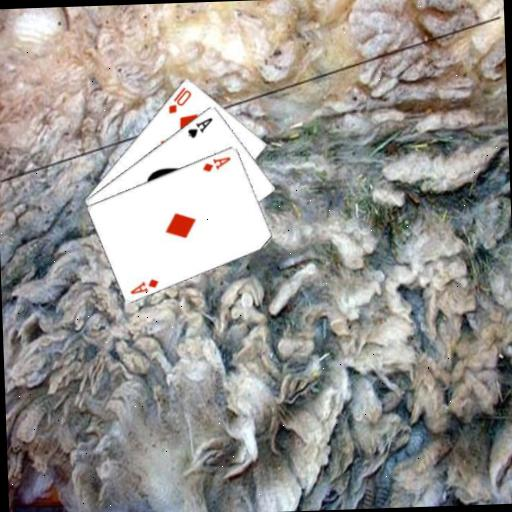10D: (164, 84, 193, 115)
AD: (198, 153, 232, 173), (127, 275, 160, 295)
AS: (184, 113, 215, 139)
